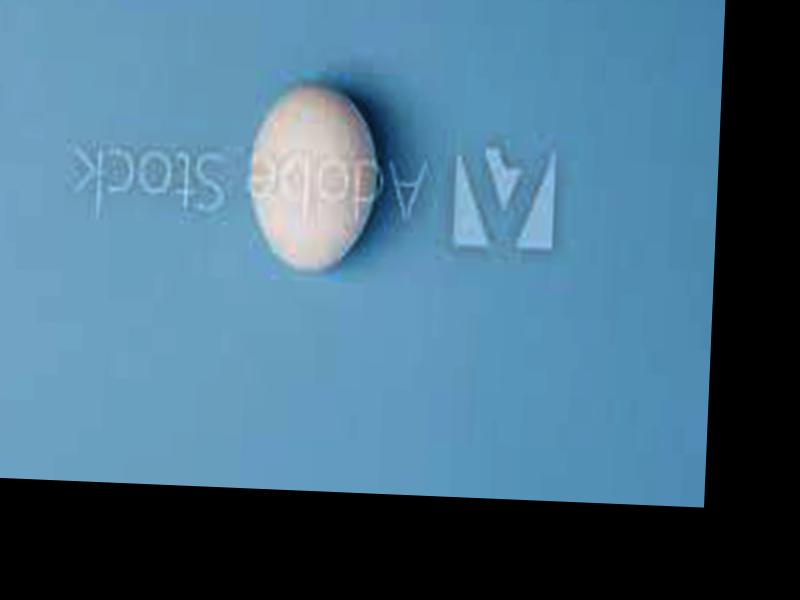Eggs: (247, 84, 380, 269)
